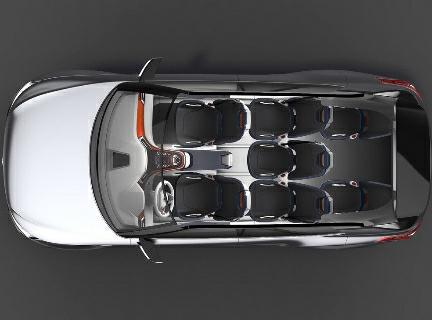双龙-途凌: (4, 60, 428, 269)
